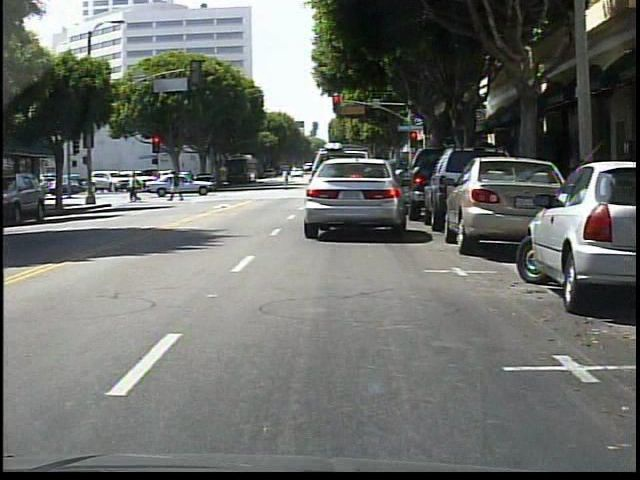person: (127, 174, 143, 204), (170, 169, 184, 201), (282, 166, 291, 190)
